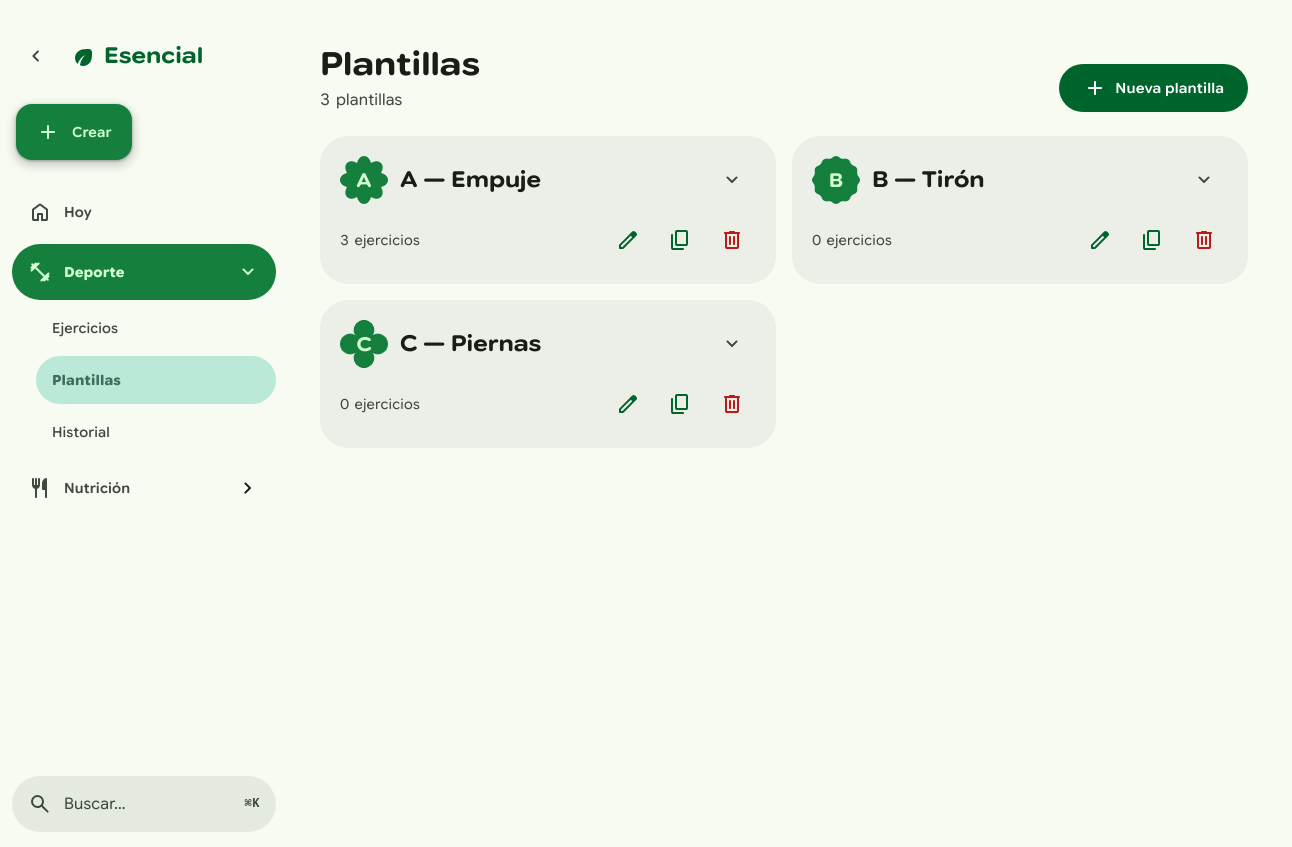
Test: template editor › edit: pre-filled; rename + targets → single PUT
expect the text "B — Tirón" is shown: met, box x1=872 y1=166 x2=984 y2=193
Click the 1st button named "Editar". click: click(628, 240)
box: x1=604 y1=216 x2=652 y2=264
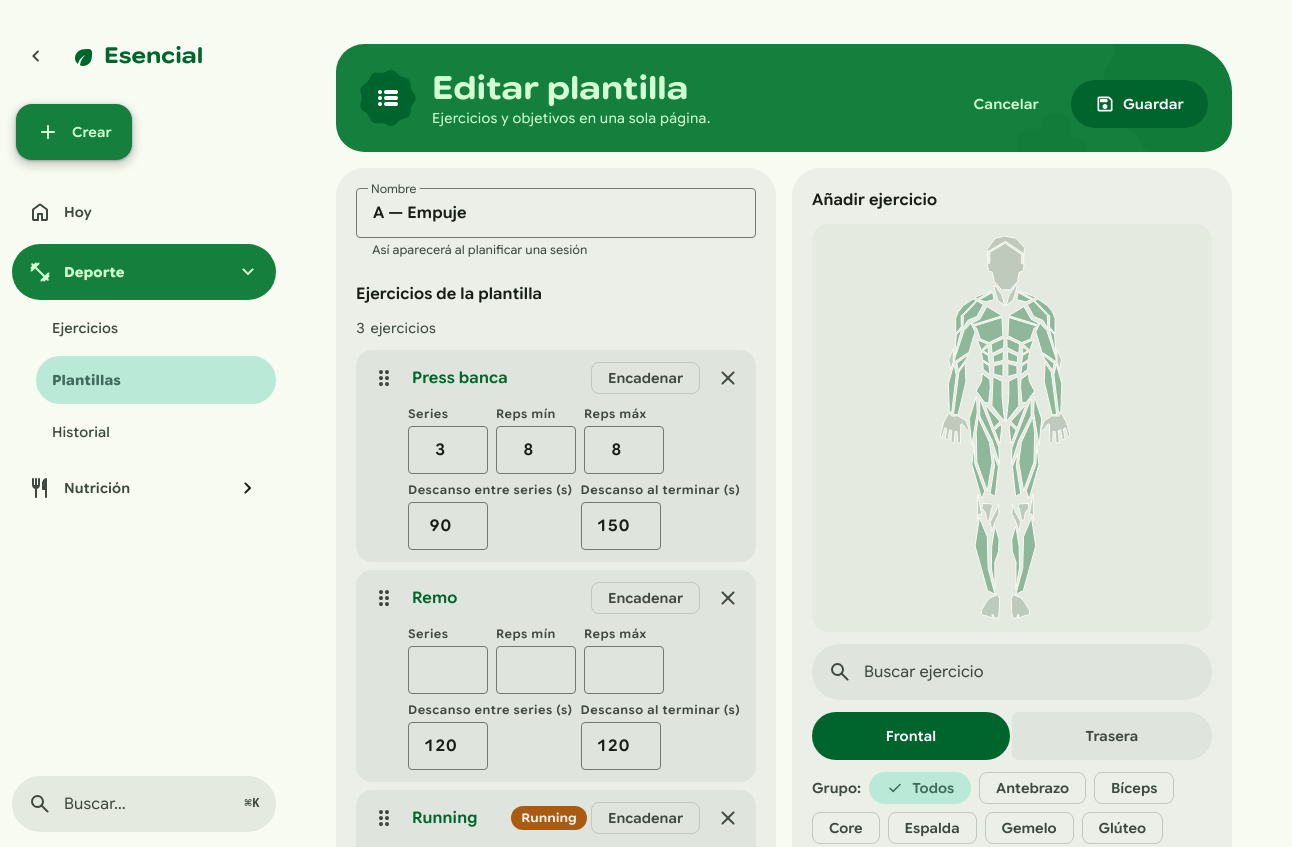
expect the field labelled "Nombre" holds "A — Empuje": met
Replace the text in the field labelled "Nombre" with "A — Empuje y núcleo". click: (556, 213)
box: x1=356 y1=188 x2=756 y2=238
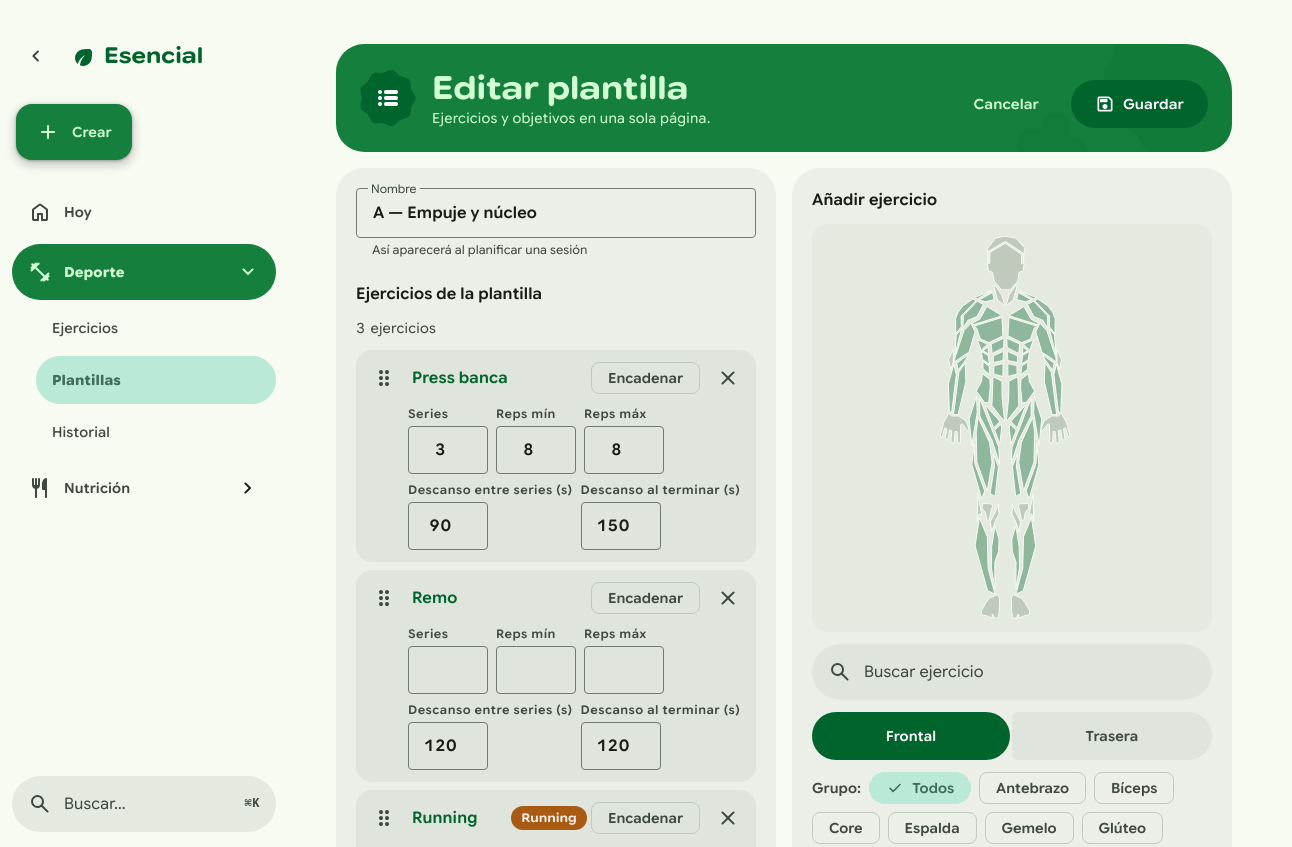
Replace the text in the number field labelled "Series" below "Press banca" with "4". click: (448, 450)
box: x1=408 y1=426 x2=488 y2=474
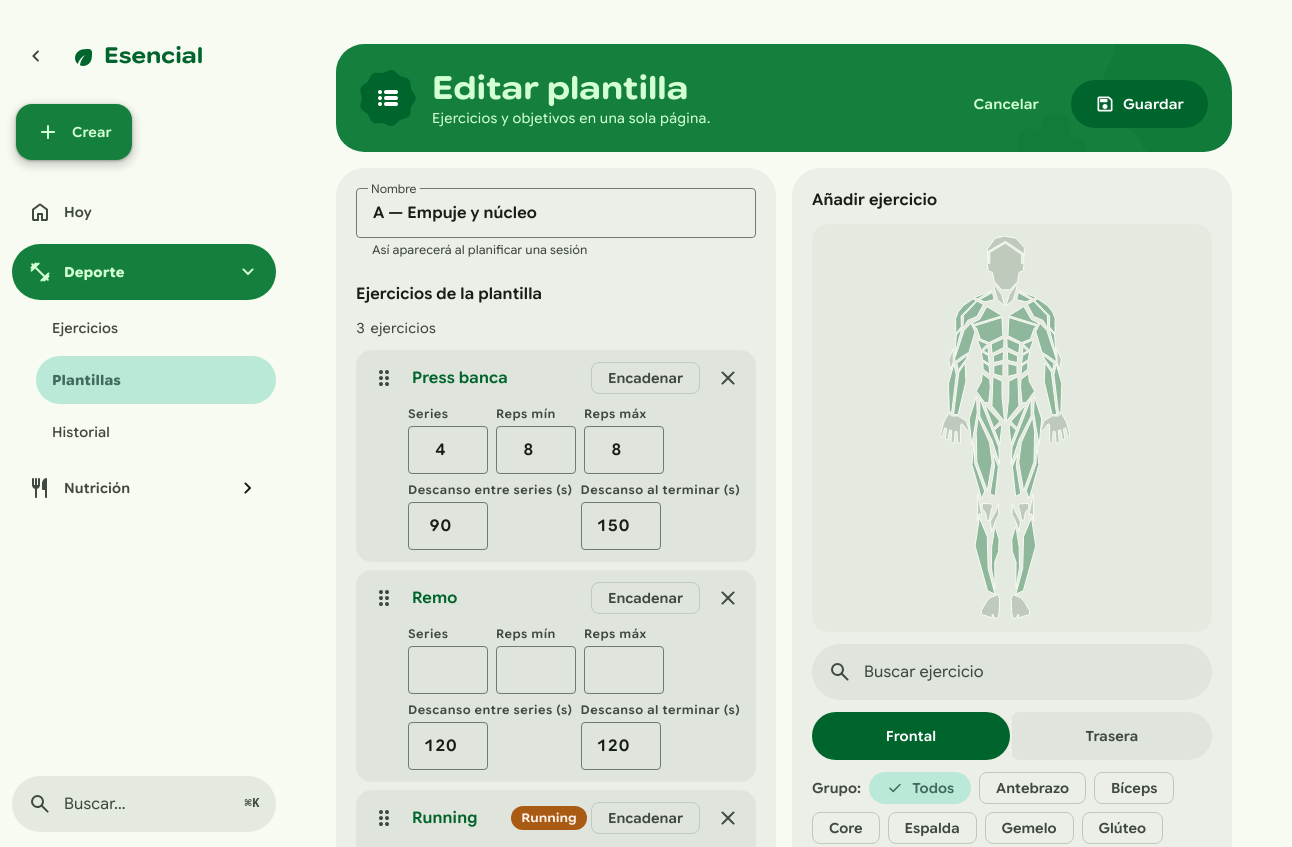
Click the button "Guardar". click: click(1140, 104)
box: x1=1071 y1=80 x2=1208 y2=128
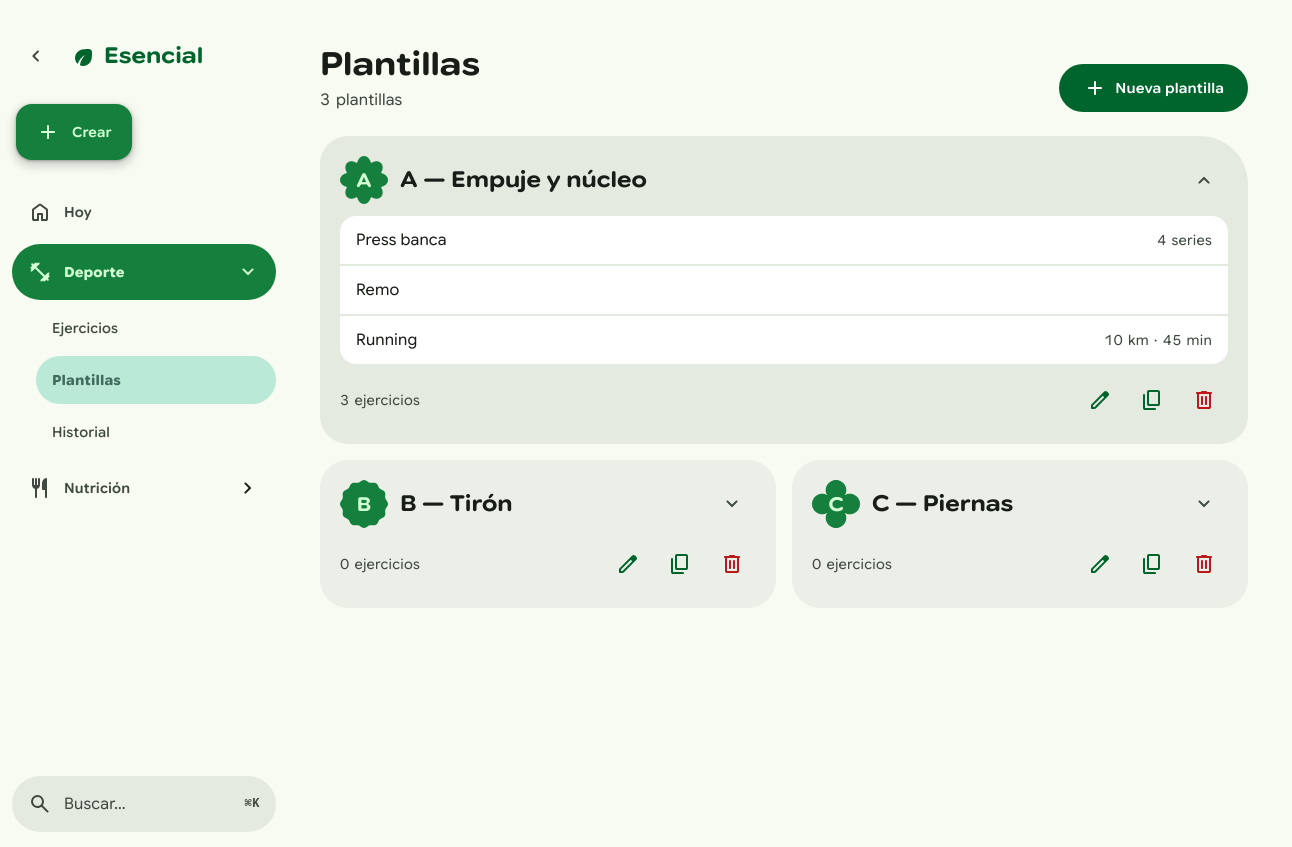
expect the text "A — Empuje y núcleo" is shown: met, box x1=400 y1=166 x2=647 y2=193
